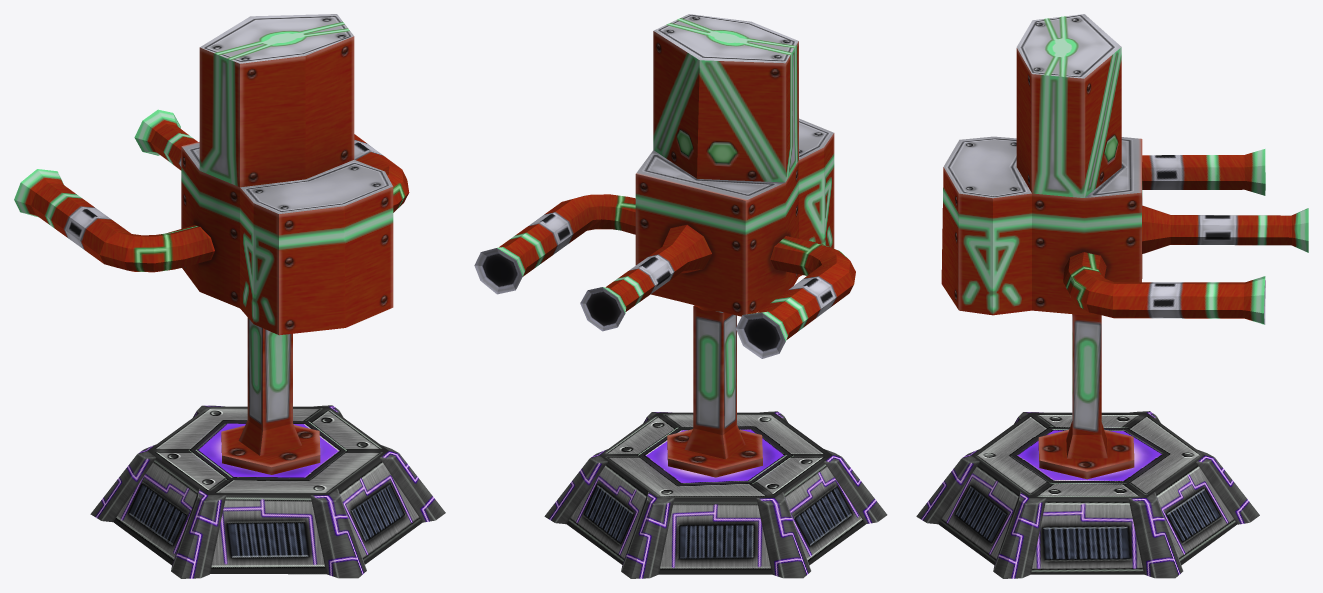
File: Tower_DoubleAoE.FBX
The picture shows the model from 3 angles, left to right: view 1: azimuth 30°, elevation 25°; view 2: azimuth 150°, elevation 25°; view 3: azimuth 270°, elevation 25°; orthographic projection. The views are drawn at different scales.
Parts seen in each view (by area): view 1: Body_DoubleAoE, Base_DoubleAoE; view 2: Body_DoubleAoE, Base_DoubleAoE; view 3: Body_DoubleAoE, Base_DoubleAoE.
Part boxes in pixels (x1,y1,x2,y2): Body_DoubleAoE: (14, 14, 409, 335); Base_DoubleAoE: (90, 317, 445, 578); Body_DoubleAoE: (474, 14, 855, 358); Base_DoubleAoE: (544, 305, 887, 578); Body_DoubleAoE: (941, 14, 1308, 324); Base_DoubleAoE: (916, 314, 1259, 578).
Bounding box in the file's own units: 30.87 × 44.33 × 33.66.
